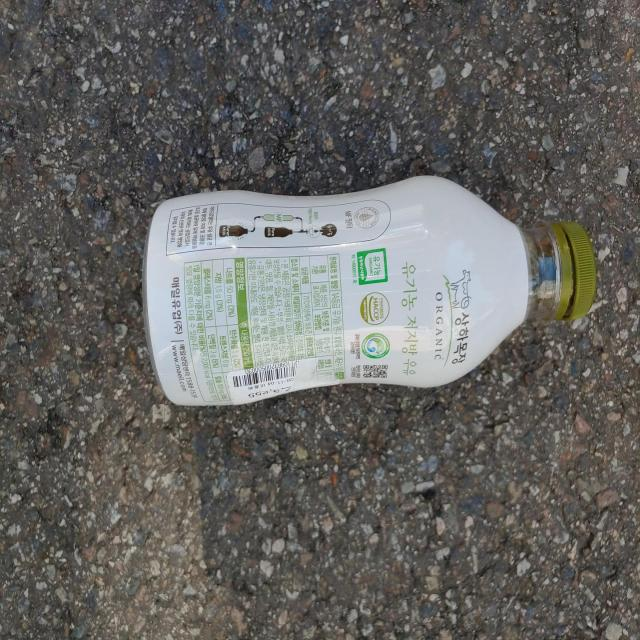plastic: (143, 176, 597, 406)
